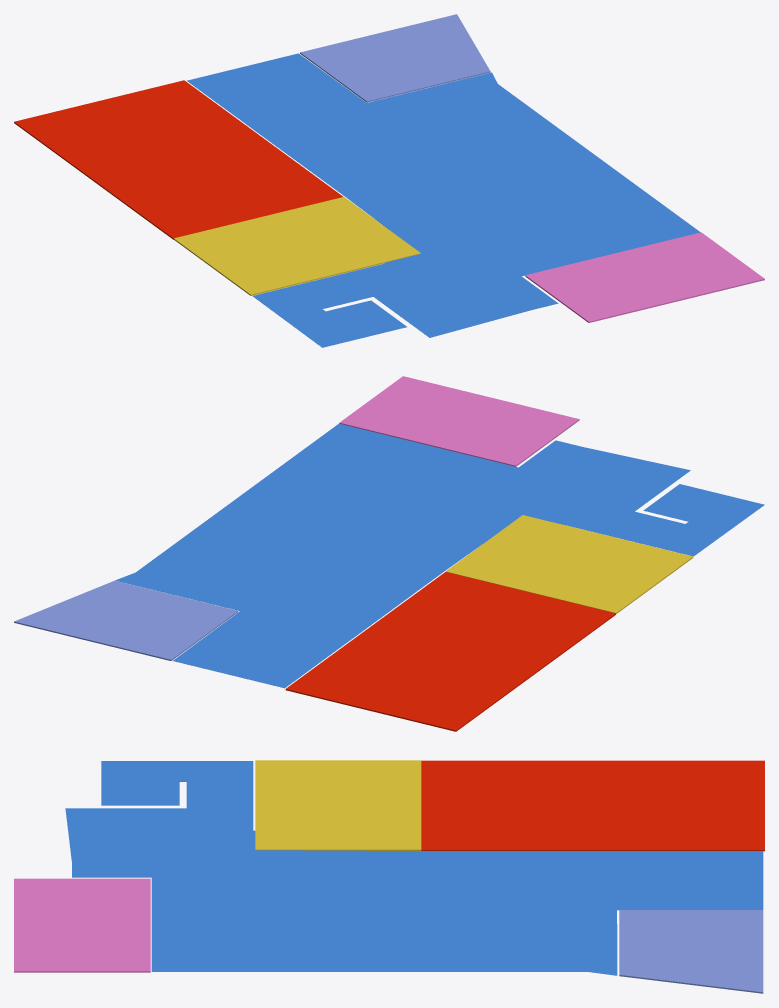
File: officeSurfaces.glb
The picture shows the model from 3 angles, top to bottom: view 1: azimuth 30°, elevation 25°; view 2: azimuth 150°, elevation 25°; view 3: azimuth 270°, elevation 25°; orthographic projection. The views are drawn at different scales.
Visible parts, largest first — view 1: office5, office1, office2, office4, office3; view 2: office5, office1, office2, office4, office3; view 3: office5, office1, office2, office4, office3.
Part boxes in pixels (x1,y1,x2,y2): office5: [187, 53, 700, 347]; office1: [14, 80, 343, 239]; office2: [173, 197, 420, 295]; office4: [525, 232, 764, 322]; office3: [300, 14, 490, 102]; office5: [115, 423, 764, 688]; office1: [285, 572, 615, 731]; office2: [445, 515, 693, 613]; office4: [339, 376, 579, 466]; office3: [14, 580, 238, 660]; office5: [65, 761, 763, 975]; office1: [421, 760, 764, 851]; office2: [255, 760, 421, 850]; office4: [14, 878, 150, 972]; office3: [619, 910, 763, 993].
Bounding box in the file's own units: 40.01 × 0.144 × 54.7.
